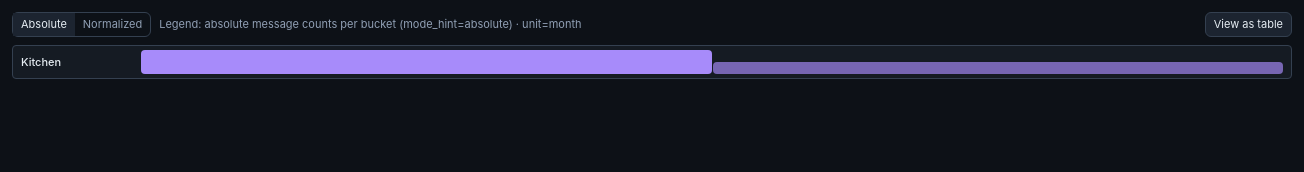
Scenario: TopicsPage / Topic Atlas views › river normalize legend and absolute/normalized toggle
The image size is (1304, 172).
Check: the text with test id "river-legend" shows "absolute", box [159,17,513,31]
Click the button "Normalized".
click(112, 25)  # box [75,13,150,36]
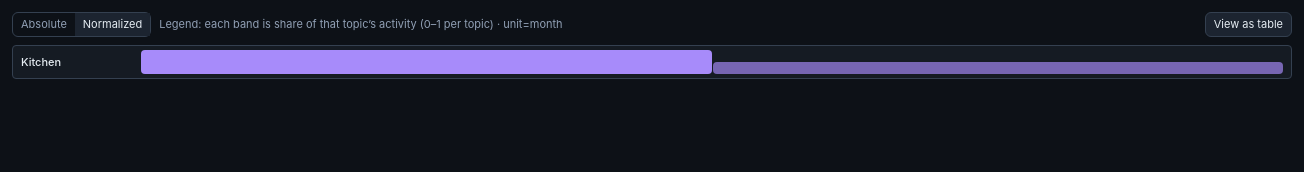
Check: the text with test id "river-legend" shows "share", box [159,17,494,31]
